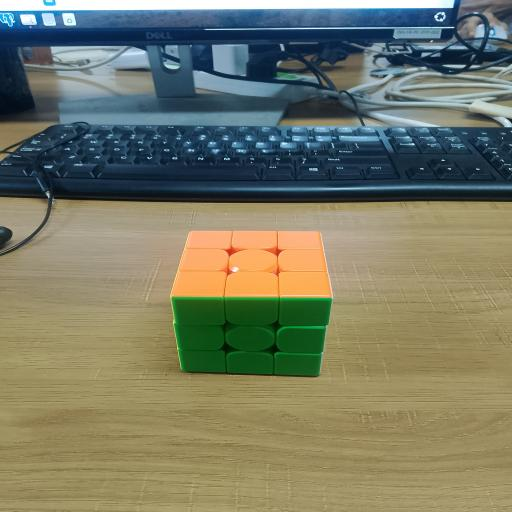cubic: (160, 219, 347, 387)
